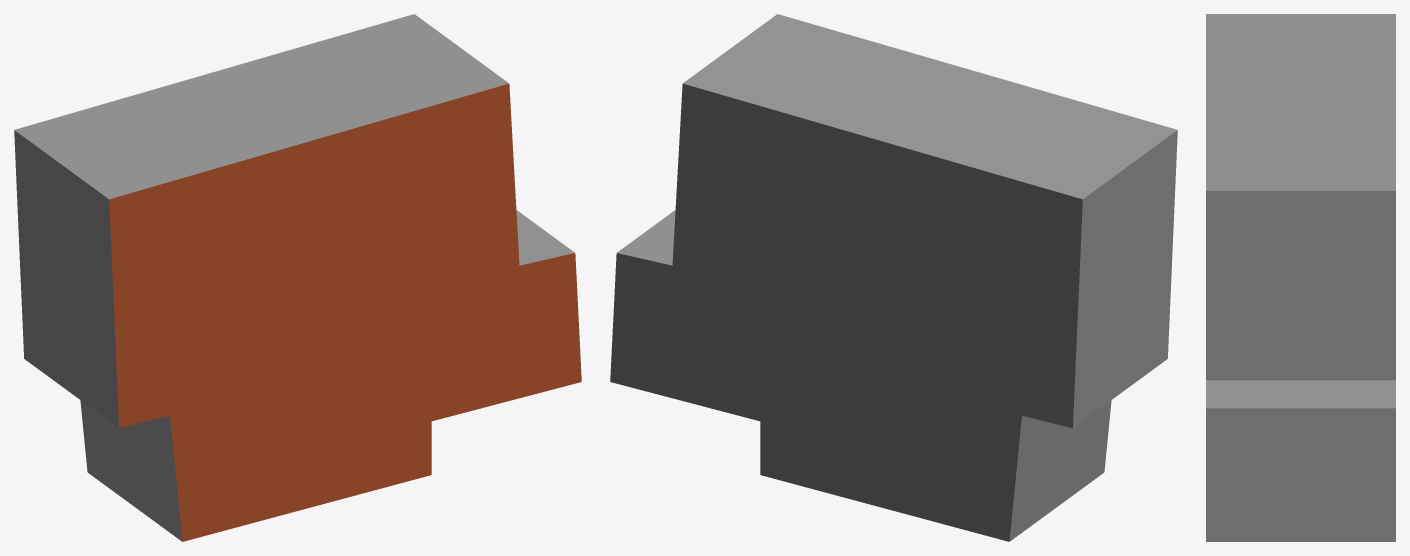
File: construction_1446_assumed_A_Casa_h6m.obj
The picture shows the model from 3 angles, left to right: view 1: azimuth 30°, elevation 25°; view 2: azimuth 150°, elevation 25°; view 3: azimuth 270°, elevation 25°; orthographic projection.
Visible parts, largest first — view 1: construction_1446_assumed_A_Casa; view 2: construction_1446_assumed_A_Casa; view 3: construction_1446_assumed_A_Casa.
Part boxes in pixels (box(x1,y1,x2,y2)): construction_1446_assumed_A_Casa: box(14, 14, 581, 541); construction_1446_assumed_A_Casa: box(610, 14, 1177, 541); construction_1446_assumed_A_Casa: box(1206, 14, 1395, 541).
Bounding box in the file's own units: 17.24 × 13.2 × 6.
